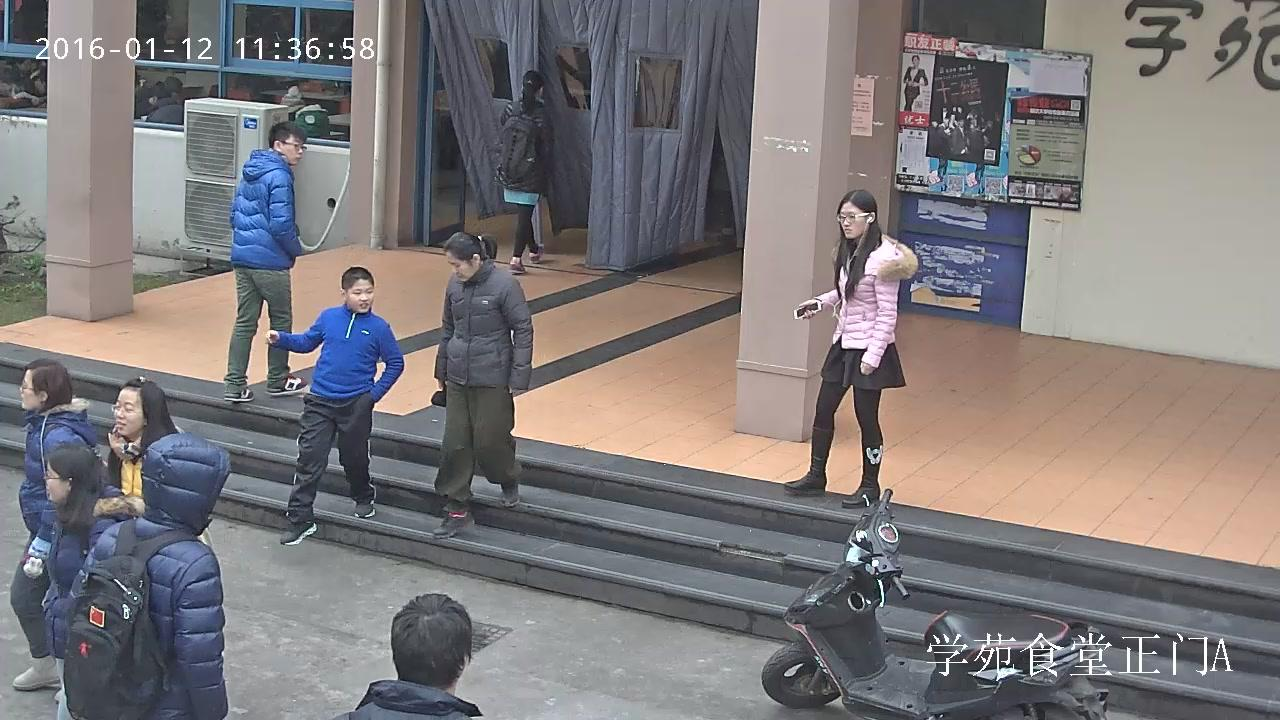person: (61, 432, 228, 720), (783, 189, 918, 509), (263, 265, 404, 546), (8, 357, 110, 705), (431, 231, 533, 539), (41, 442, 146, 720), (222, 122, 308, 403), (104, 376, 213, 554), (497, 70, 555, 278), (279, 83, 331, 137), (148, 75, 185, 125), (903, 53, 928, 111)
